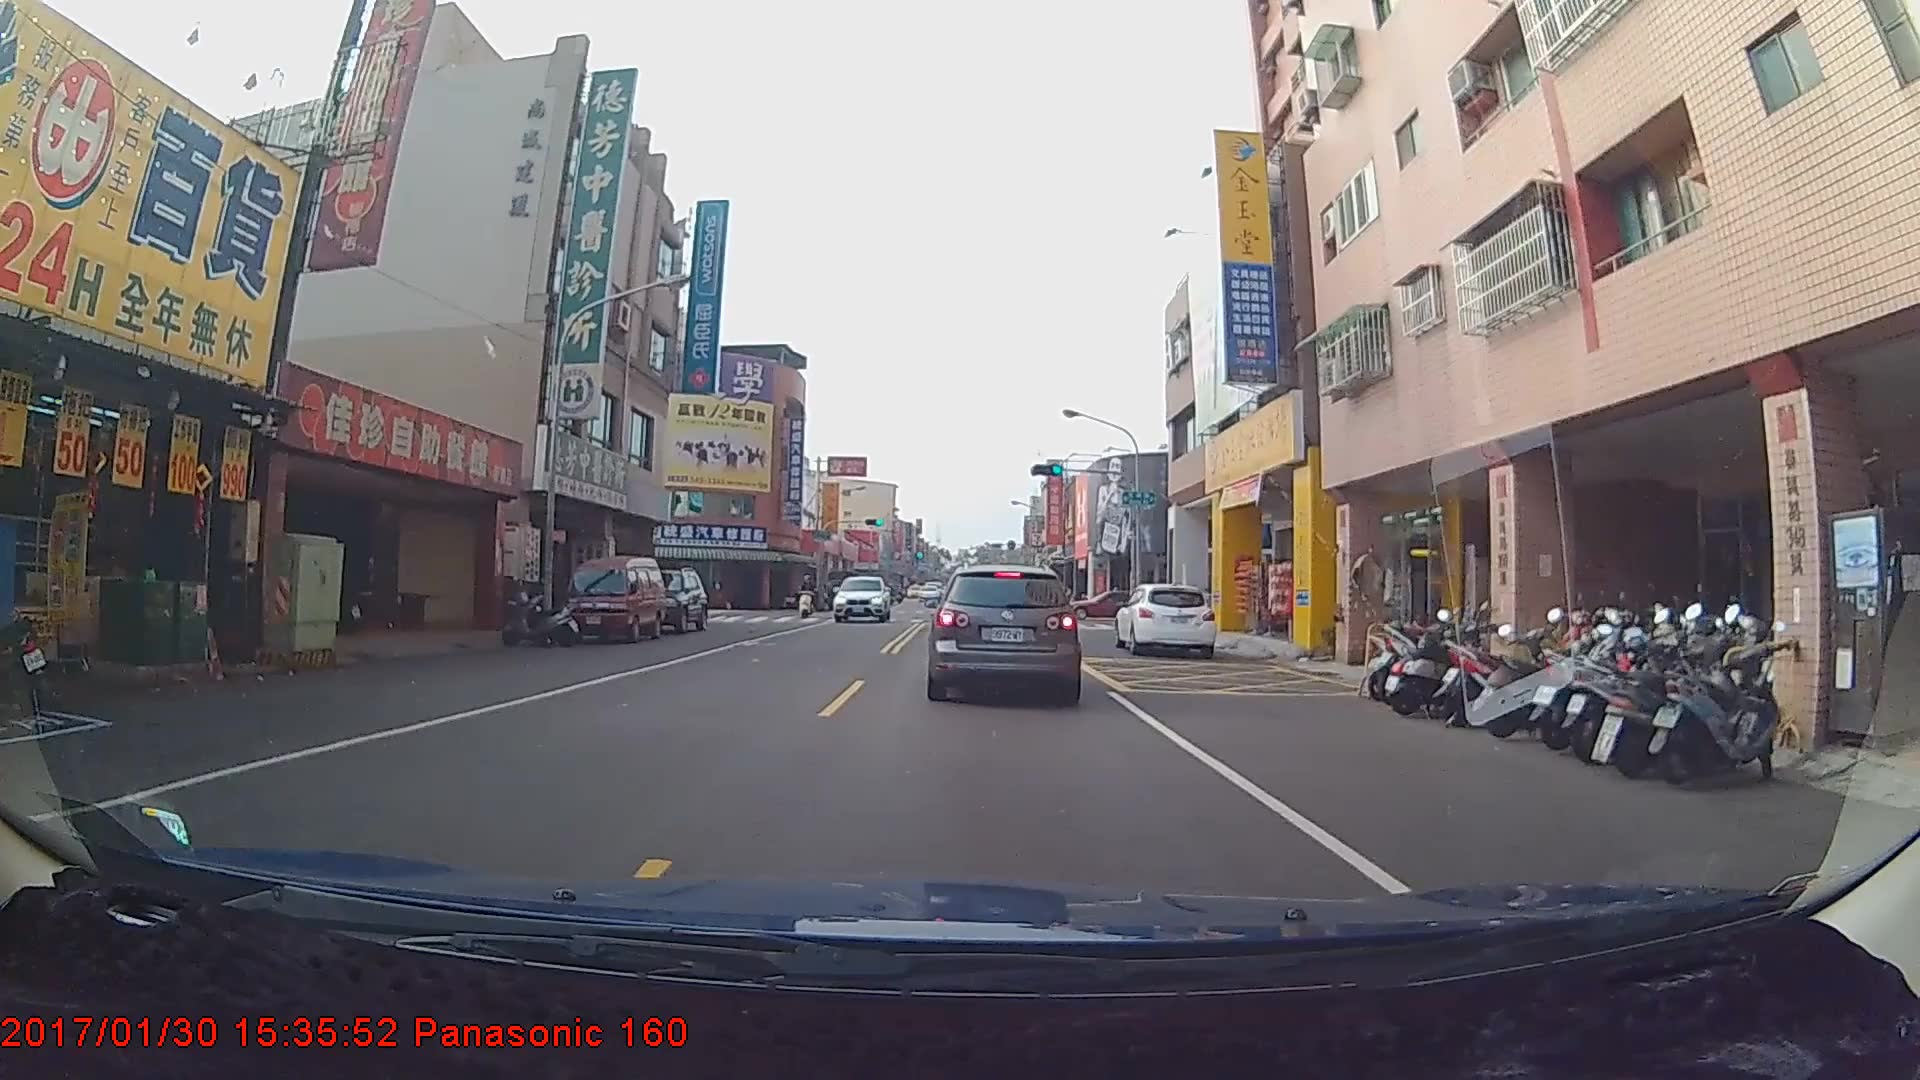rider: (797, 574, 822, 619)
vehicle: (930, 561, 1080, 701), (562, 555, 667, 643), (1114, 580, 1216, 658), (630, 565, 709, 632), (830, 570, 885, 617), (1064, 588, 1153, 617)
